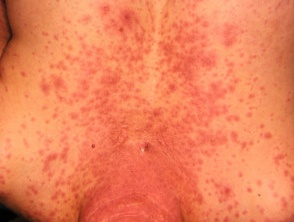SJS-TEN: (23, 0, 288, 222)
